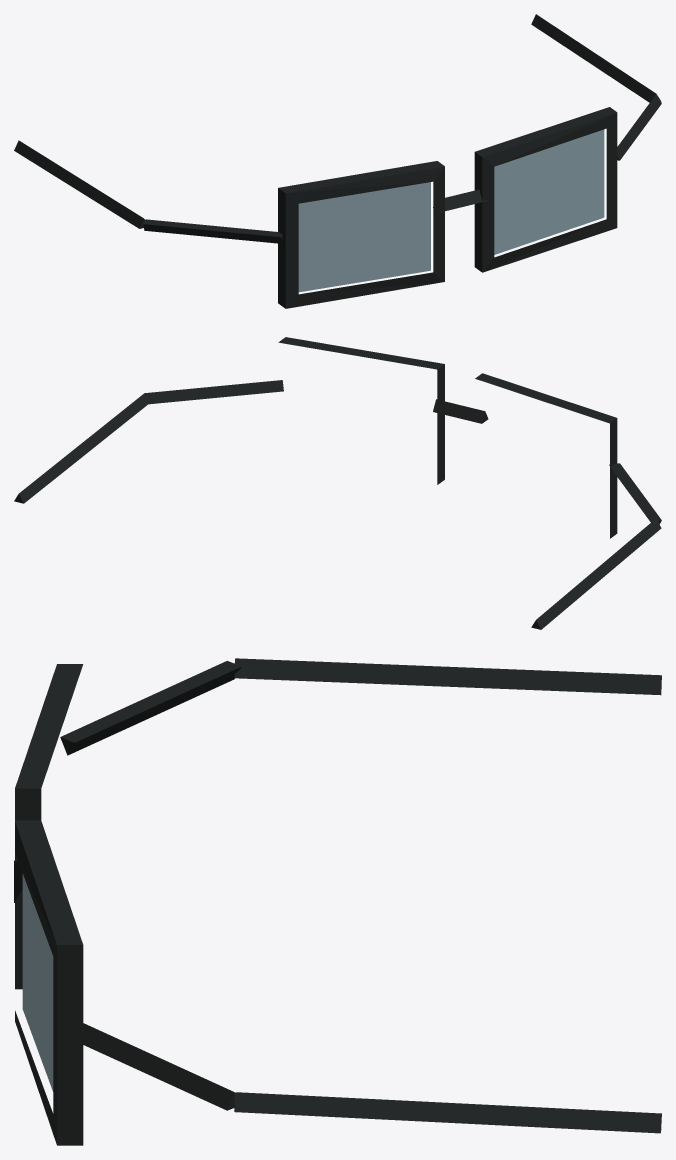
File: glasses.high.2f921a9d.glb
The picture shows the model from 3 angles, top to bottom: view 1: azimuth 30°, elevation 25°; view 2: azimuth 150°, elevation 25°; view 3: azimuth 270°, elevation 25°; orthographic projection. The views are drawn at different scales.
Parts seen in each view (by area): view 1: glasses; view 2: glasses; view 3: glasses.
Part boxes in pixels (<box>): glasses: <box>14,14,661,308</box>; glasses: <box>14,337,661,629</box>; glasses: <box>14,658,661,1145</box>.
Bounding box in the file's own units: 0.2006 × 0.042 × 0.123.
